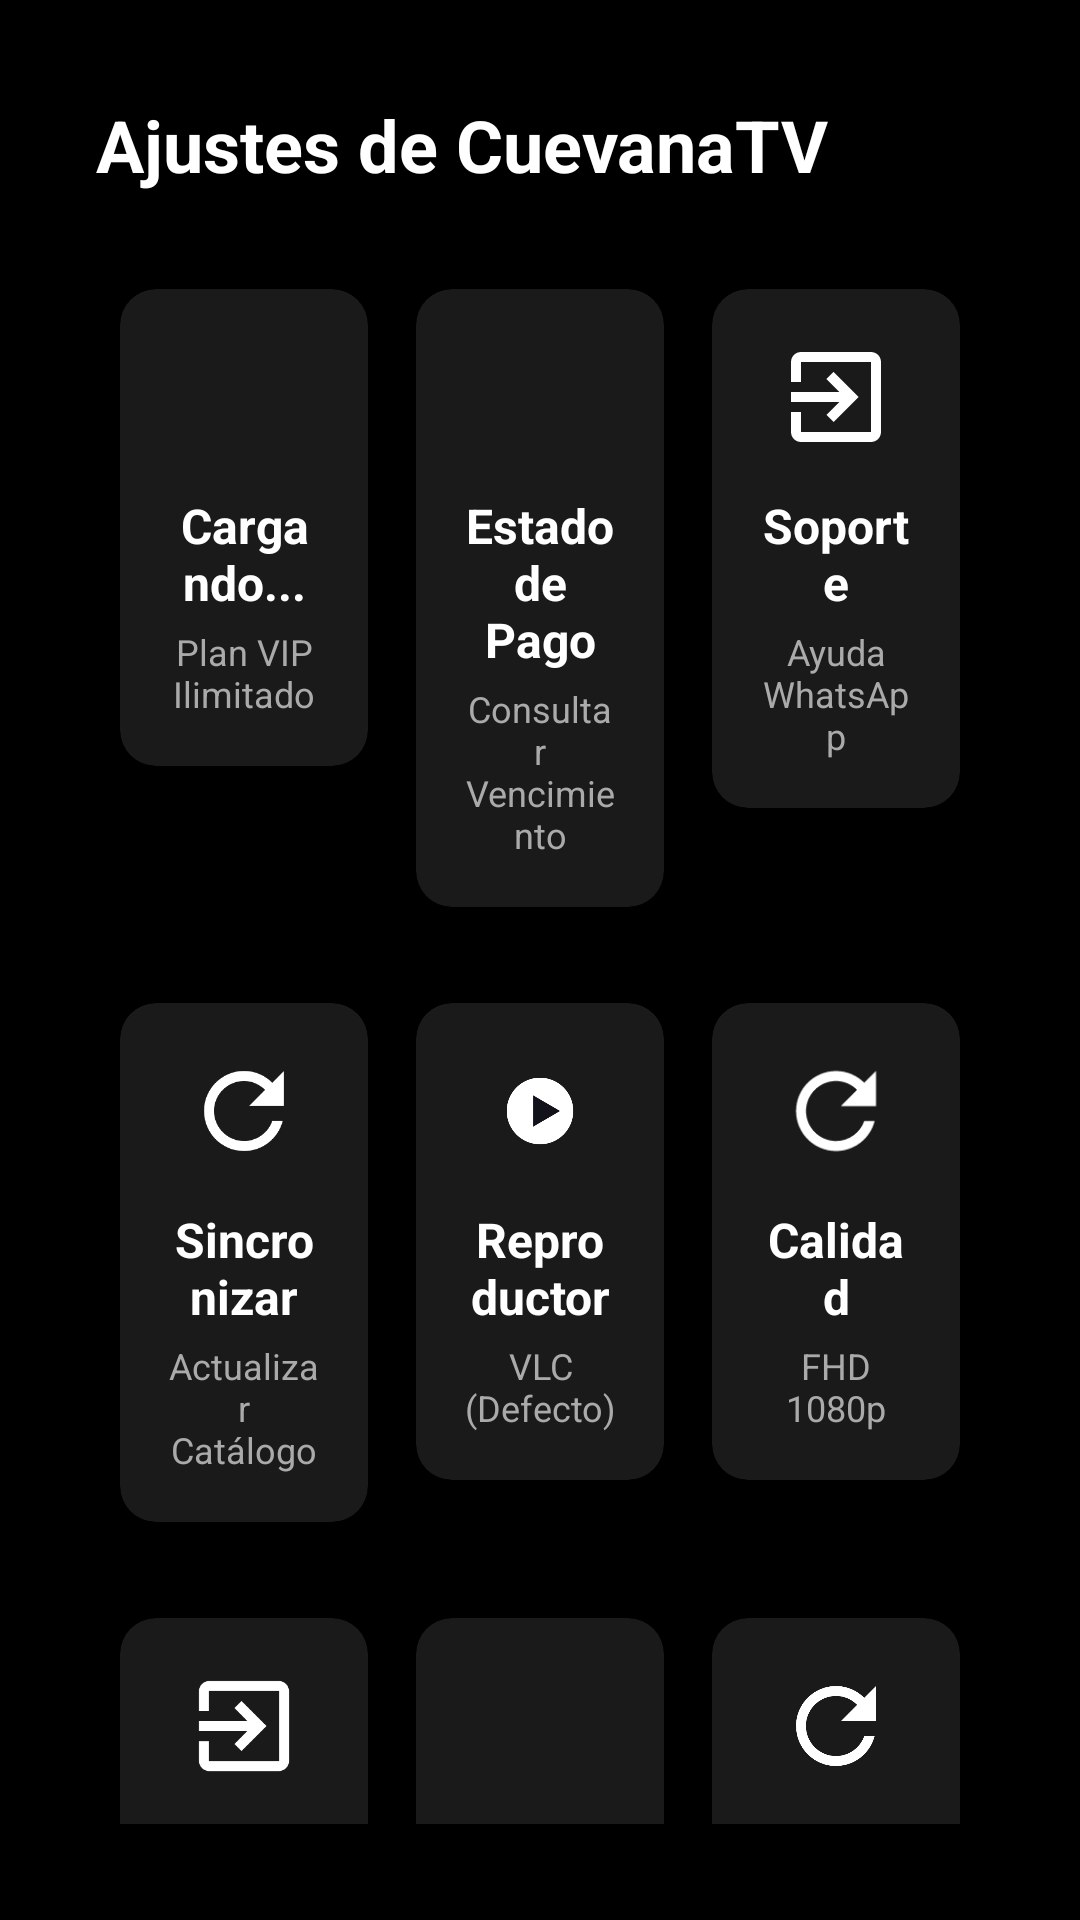

Named icons in this screenshot (1080x1920) and their bounding boxes, [x1, y1, x2, y2]:
play: [507, 1078, 573, 1144]
settings sync: [795, 1070, 877, 1152], [204, 1071, 284, 1151], [796, 1686, 876, 1766]
